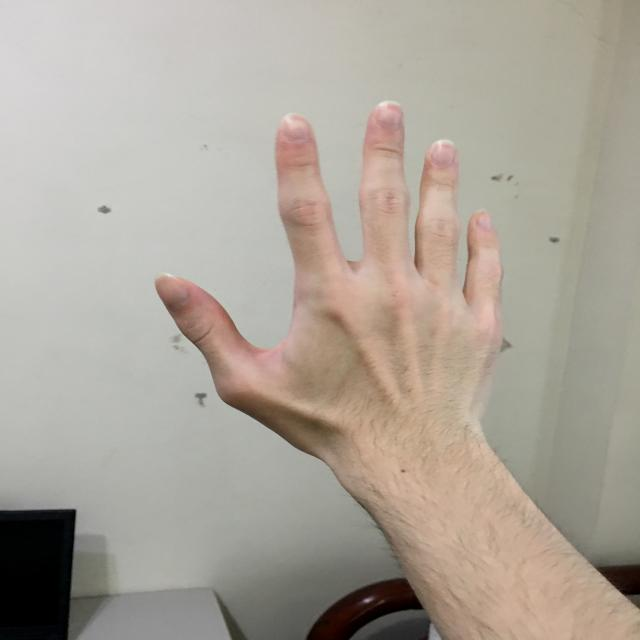no_glove: (142, 86, 527, 486)
